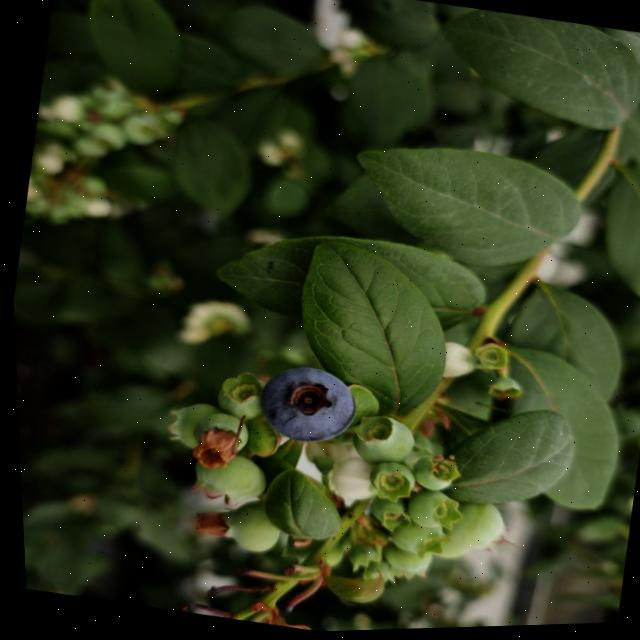RipeBlueBerry: (245, 357, 360, 456)
